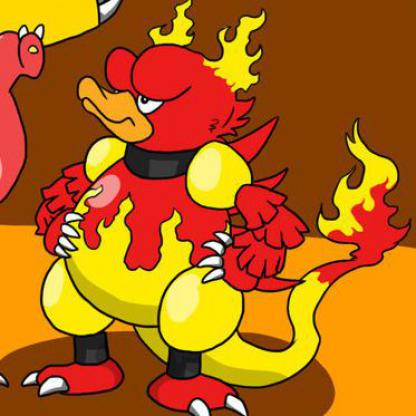Magmar: (4, 11, 416, 381)
